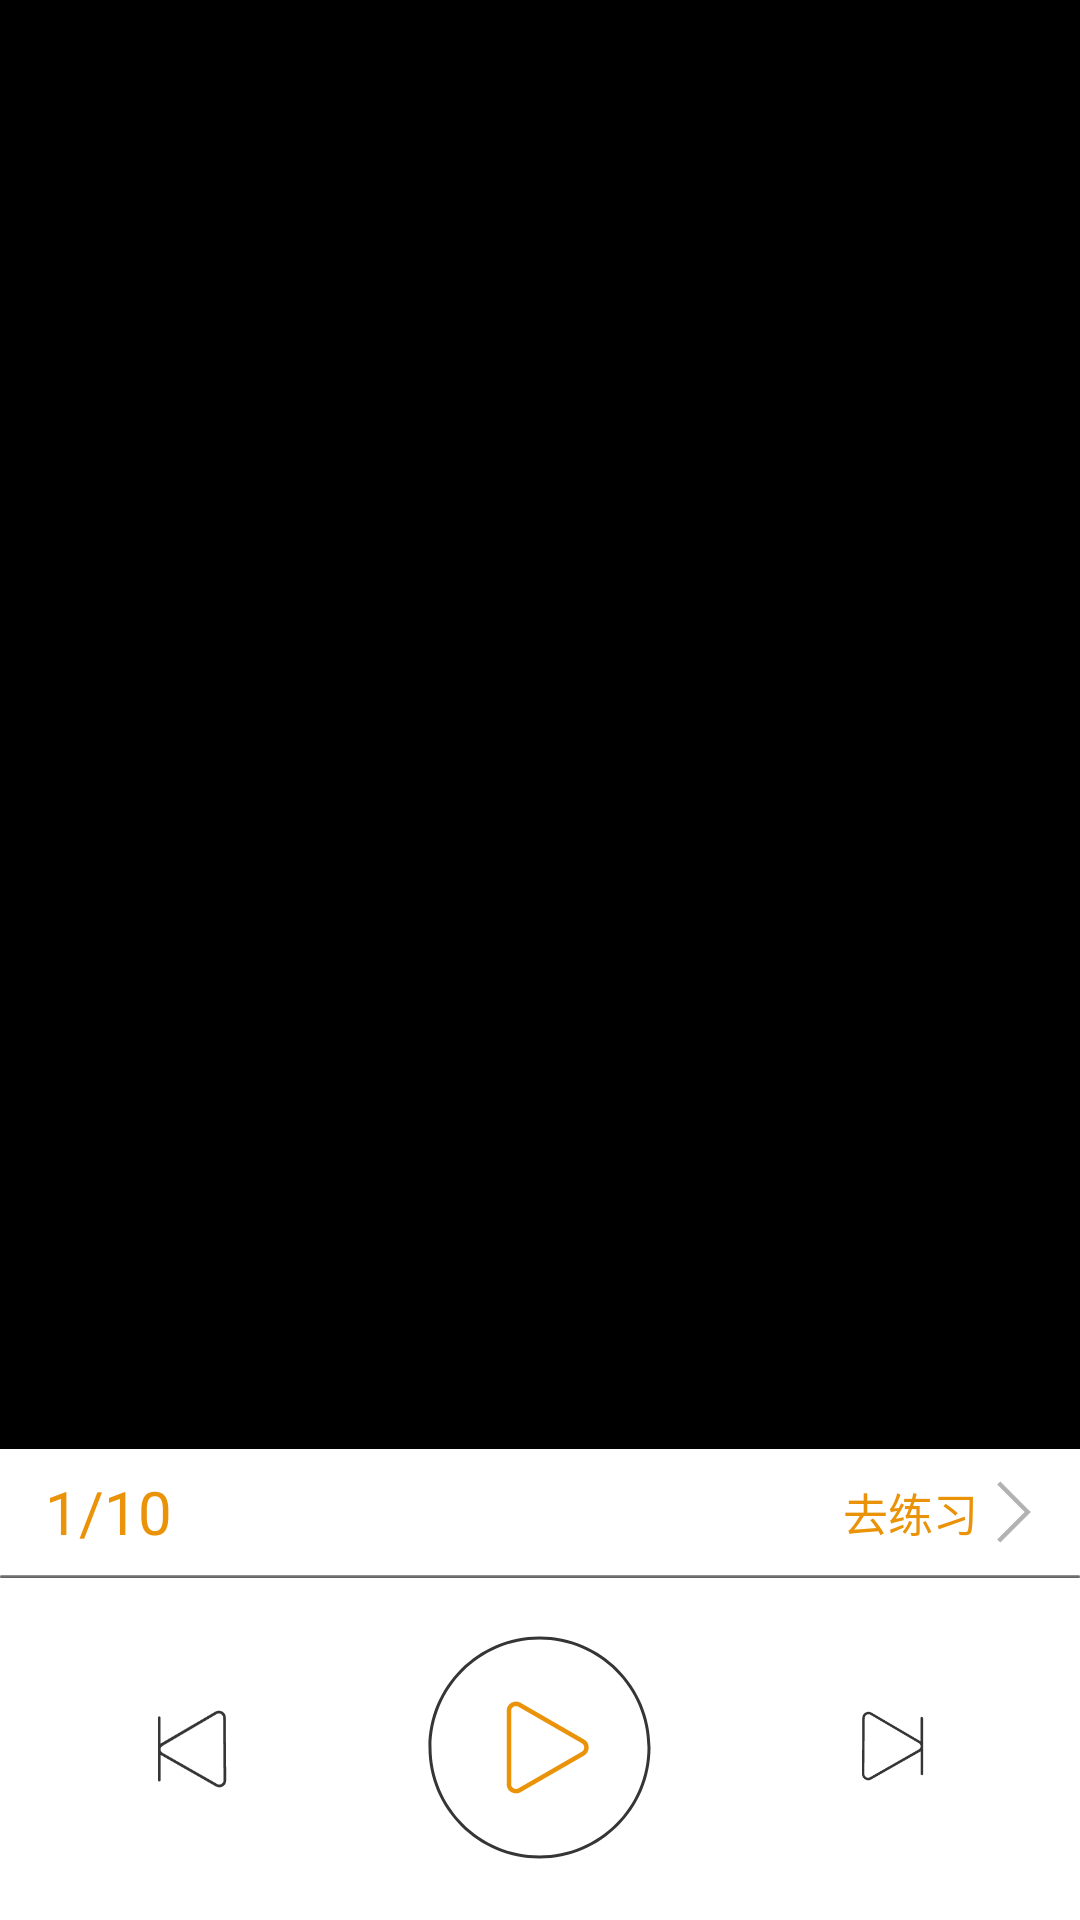

Where to tap for icons on this 1080 × 1920 app screen, as [x,y]:
next: [893,1746]
play: [539,1747]
previous: [192,1749]
